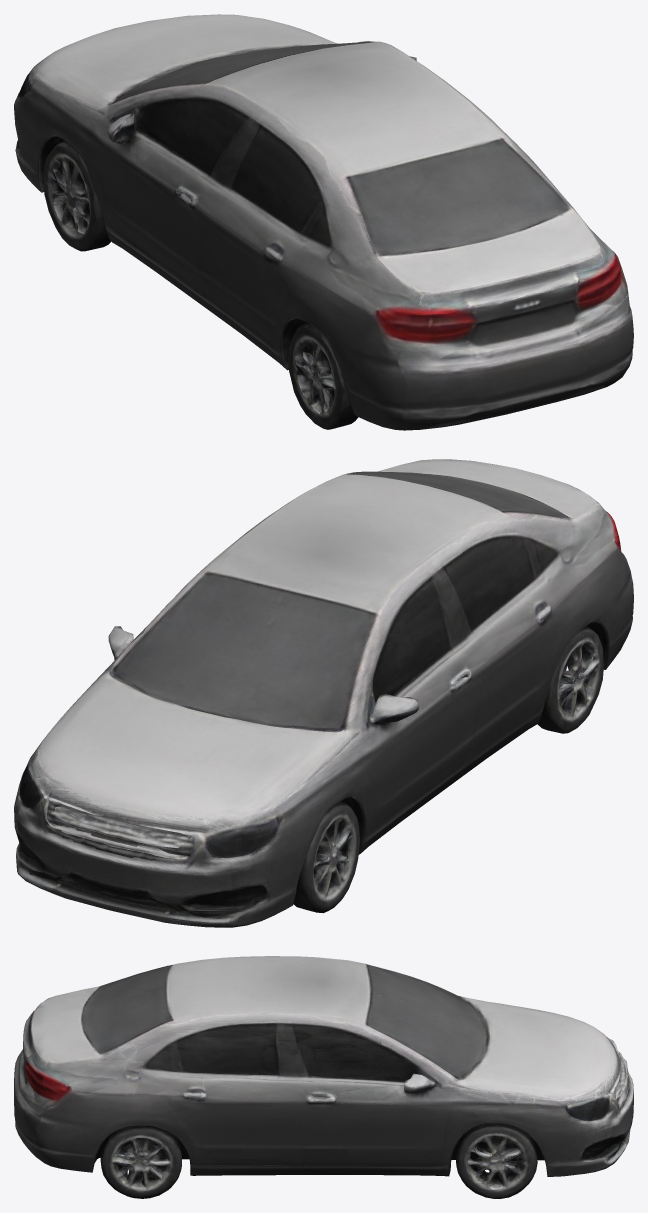
Rendered from sedan_tex.glb.
3 views of the same model, one above another, from view 1: azimuth 30°, elevation 25°; view 2: azimuth 150°, elevation 25°; view 3: azimuth 270°, elevation 25° (orthographic). The views are drawn at different scales.
Visible parts, largest first — view 1: sedan; view 2: sedan; view 3: sedan.
Part boxes in pixels (box(x1,y1,x2,y2)): sedan: box(14, 14, 633, 430); sedan: box(14, 459, 633, 927); sedan: box(14, 956, 633, 1198).
Bounding box in the file's own units: 1.35 × 1 × 3.25.
1 material, 1 textured.
